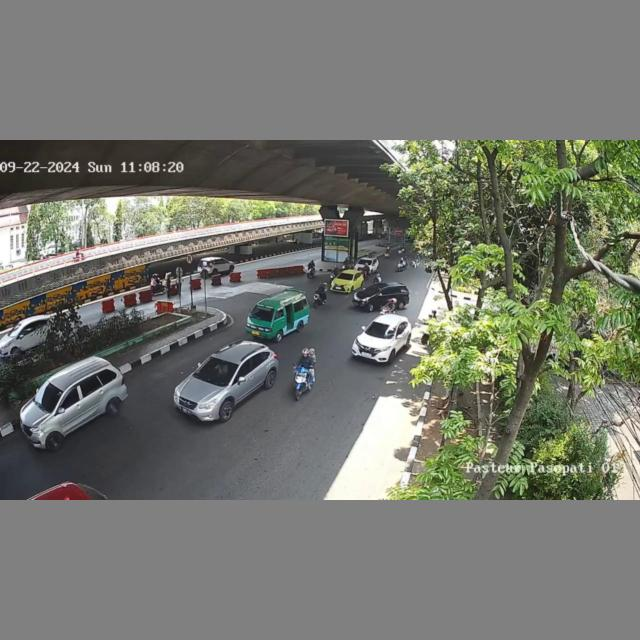windshield: (195, 357, 238, 387), (37, 382, 63, 408), (364, 322, 396, 338), (247, 306, 278, 321), (337, 272, 355, 281)
